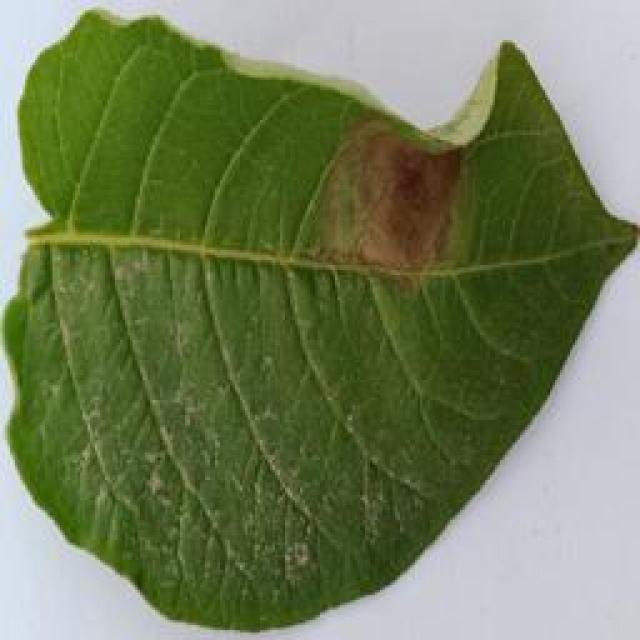Potato_Late_Blight: (20, 18, 640, 621)
